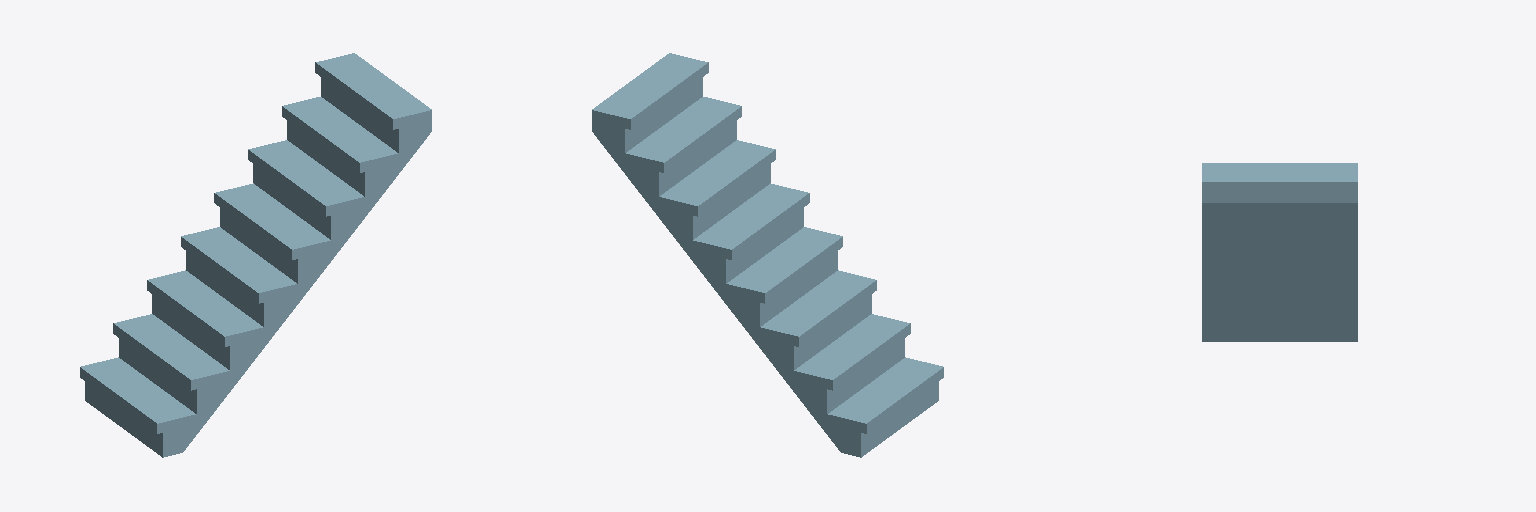
Rendered from stairsStone.obj.
The picture shows the model from 3 angles: view 1: azimuth 30°, elevation 25°; view 2: azimuth 150°, elevation 25°; view 3: azimuth 270°, elevation 25°; orthographic projection.
Parts seen in each view (by area): view 1: stairsStone; view 2: stairsStone; view 3: stairsStone.
Part boxes in pixels (x1,y1,x2,y2): stairsStone: (80,53,431,457); stairsStone: (592,53,943,457); stairsStone: (1202,163,1357,341).
Size of the model in its own units: 1.02 by 1 by 0.5.